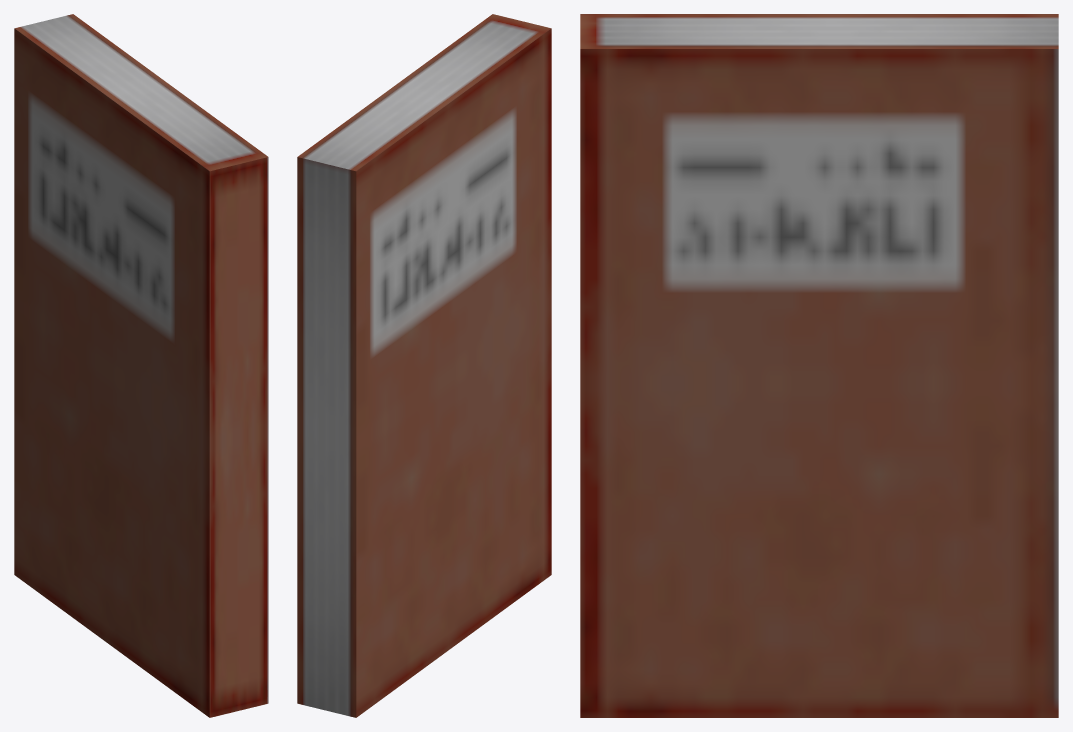
File: book_red.fbx
3 views of the same model, side by side, from view 1: azimuth 30°, elevation 25°; view 2: azimuth 150°, elevation 25°; view 3: azimuth 270°, elevation 25° (orthographic). The views are drawn at different scales.
Visible parts, largest first — view 1: book_red; view 2: book_red; view 3: book_red.
Boxes of the visible parts, <box> form: book_red: <box>14,14,268,717</box>; book_red: <box>297,14,551,717</box>; book_red: <box>580,14,1058,717</box>.
Size of the model in its own units: 3.36 by 29.79 by 19.3.
Materials: 1 (1 with a texture image).
